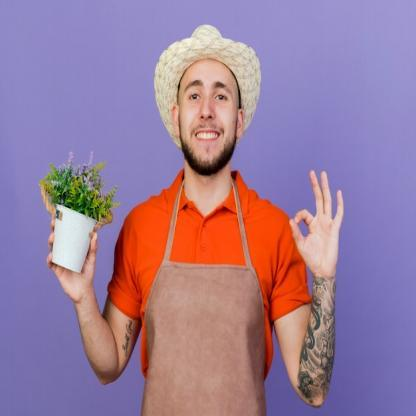ok: (288, 167, 346, 280)
